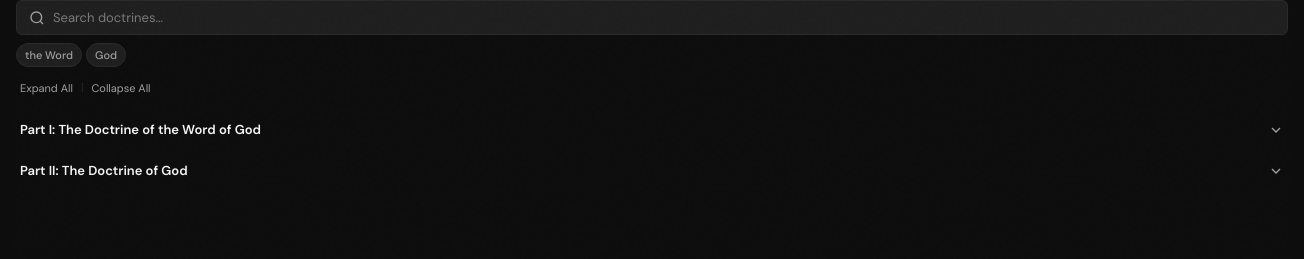
Test: SystematicTree › part expansion › expands part to show chapters
What coordinates should you click on to do the following:
click the button "Part I: The Doctrine of the Word of God"
I would click on:
 (140, 130)
Its box is top-left (12, 109), bottom-right (1292, 150).
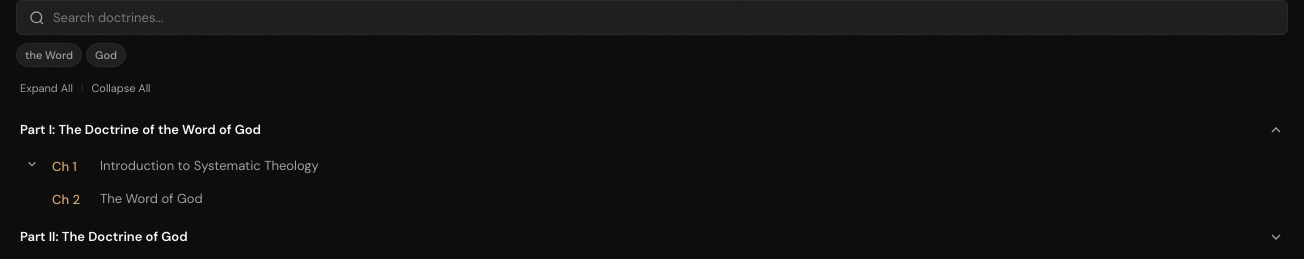
Now the text "Introduction to Systematic Theology" is shown, box top-left (100, 157), bottom-right (319, 174)
Now the text "The Word of God" is shown, box top-left (100, 190), bottom-right (203, 207)
